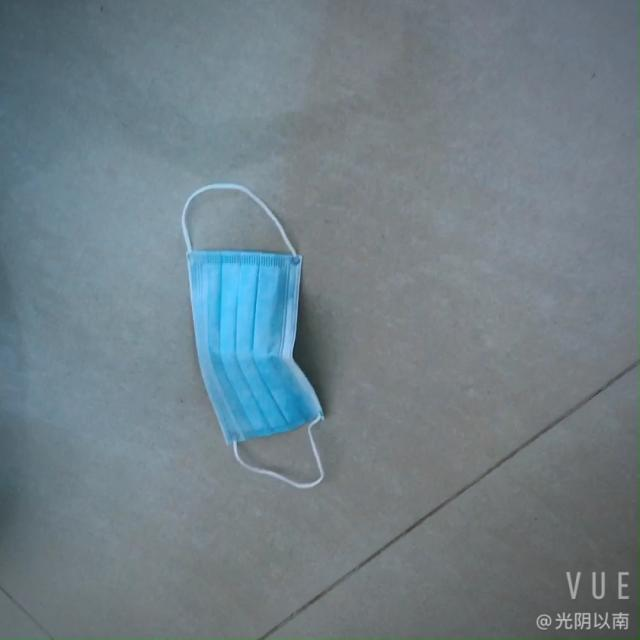non-organic waste: (181, 180, 315, 485)
